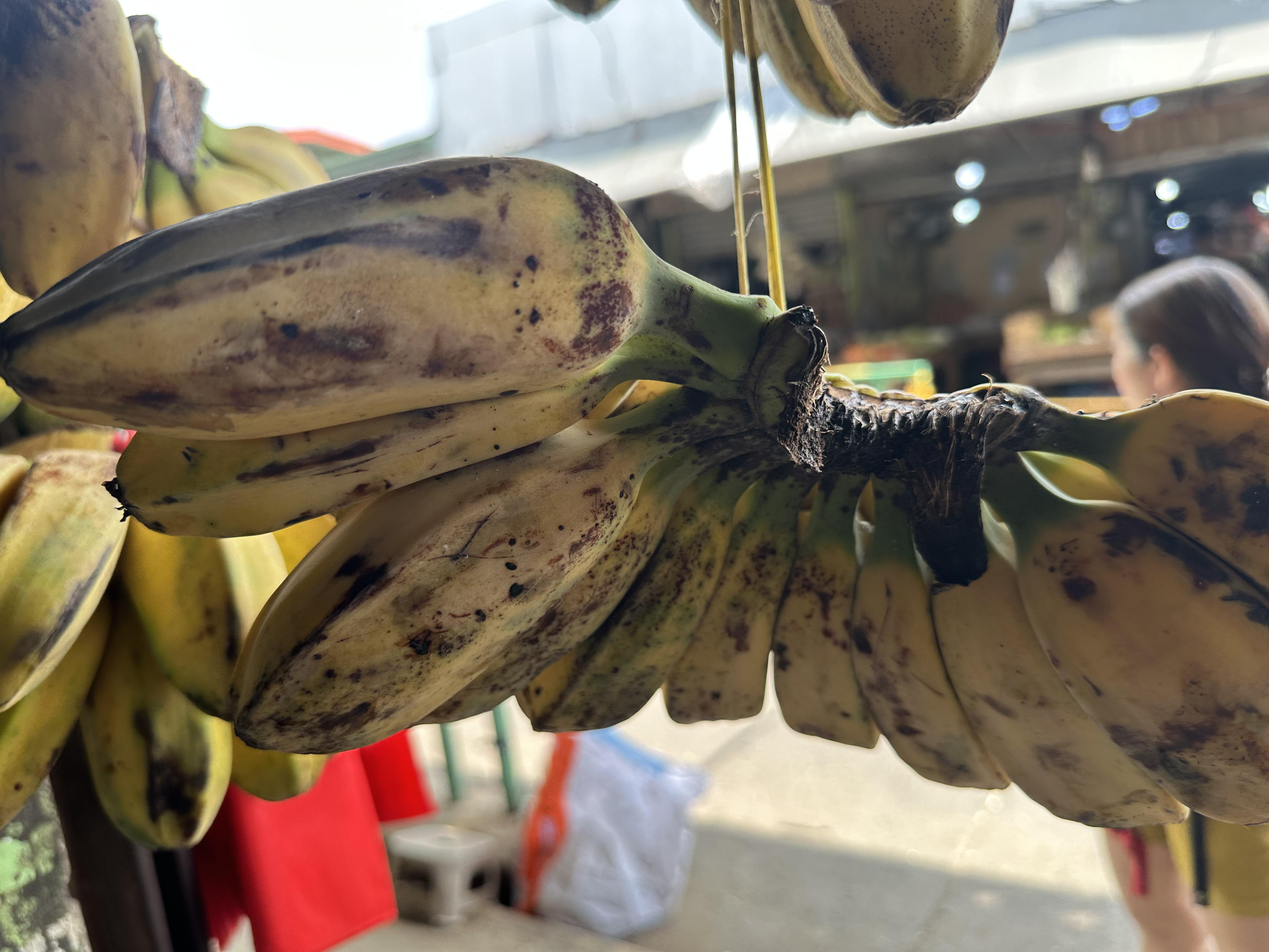underripe: (0, 158, 1269, 827), (0, 450, 327, 848)
